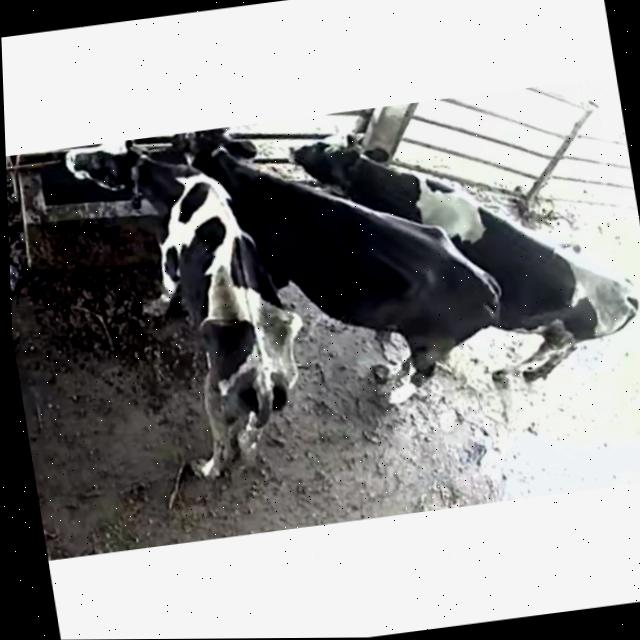drink: (55, 129, 210, 220), (182, 120, 279, 215)
